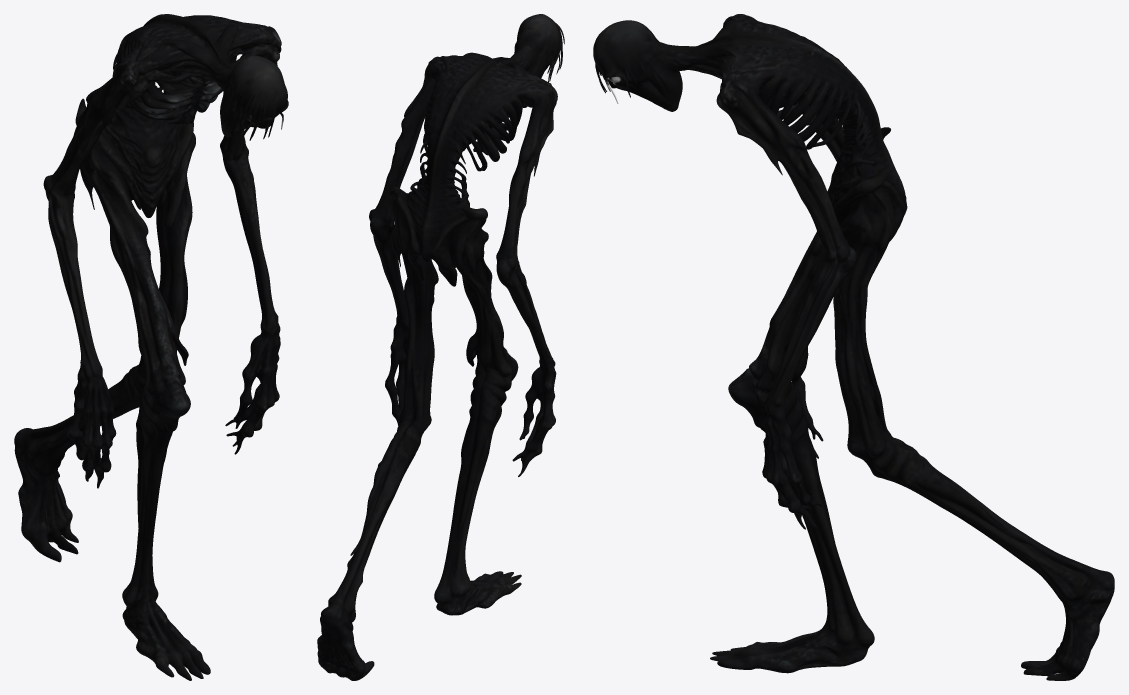
The model's file is monster.glb.
3 views of the same model, side by side, from view 1: azimuth 30°, elevation 25°; view 2: azimuth 150°, elevation 25°; view 3: azimuth 270°, elevation 25° (orthographic). The views are drawn at different scales.
Visible parts, largest first — view 1: node_0; view 2: node_0; view 3: node_0.
Boxes of the visible parts, bbox=[...] form: node_0: bbox=[14, 14, 288, 680]; node_0: bbox=[317, 14, 564, 680]; node_0: bbox=[593, 14, 1114, 680].
Size of the model in its own units: 0.3289 by 0.9979 by 0.7284.
Materials: 1 (1 with a texture image).
